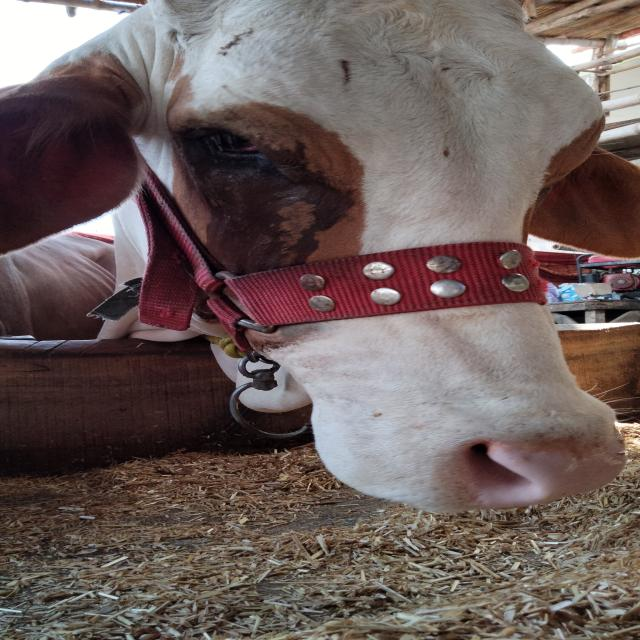muzzles: (446, 407, 640, 522)
